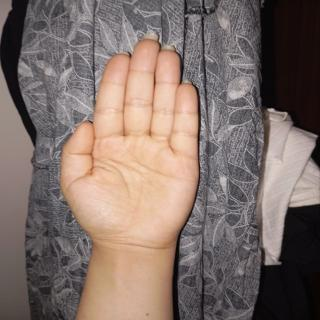SEEN: (46, 35, 204, 245)
